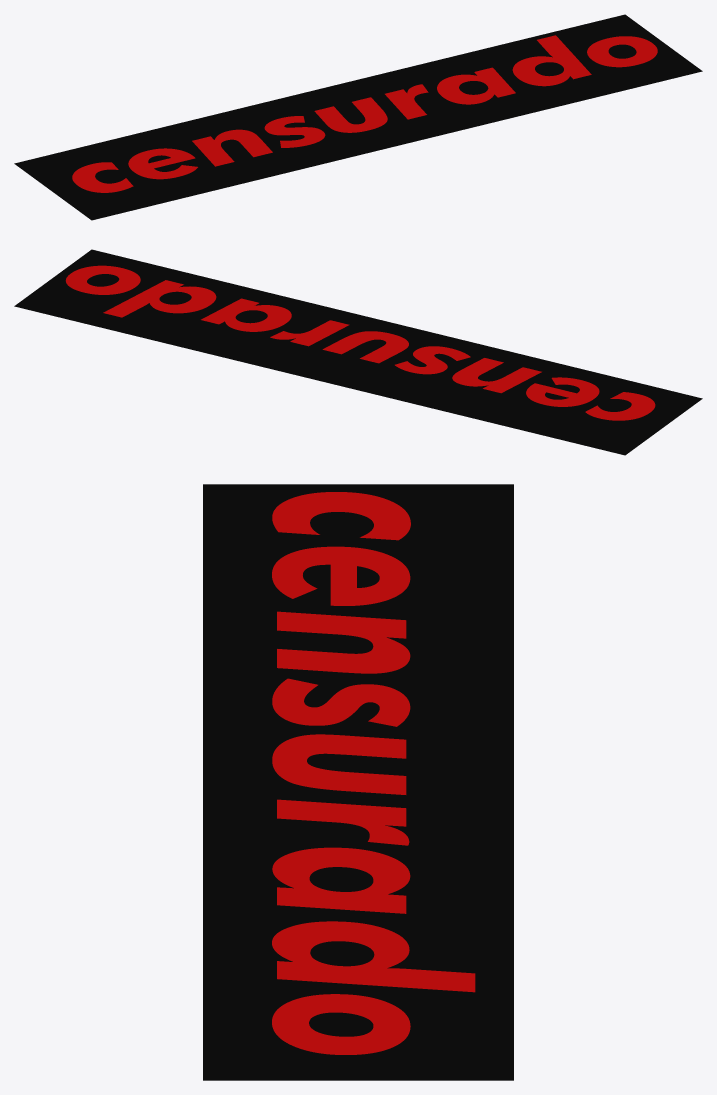
The model's file is cancelado.obj.
The picture shows the model from 3 angles, top to bottom: view 1: azimuth 30°, elevation 25°; view 2: azimuth 150°, elevation 25°; view 3: azimuth 270°, elevation 25°; orthographic projection. The views are drawn at different scales.
Visible parts, largest first — view 1: Plane, cancelado_Text; view 2: Plane, cancelado_Text; view 3: Plane, cancelado_Text.
Part boxes in pixels (box(x1,y1,x2,y2)): Plane: box(14, 14, 702, 220); cancelado_Text: box(72, 35, 657, 192); Plane: box(14, 249, 702, 455); cancelado_Text: box(65, 265, 655, 420); Plane: box(203, 484, 513, 1080); cancelado_Text: box(272, 492, 475, 1054).
Size of the model in its own units: 7.07 by 0.0623 by 1.56.
